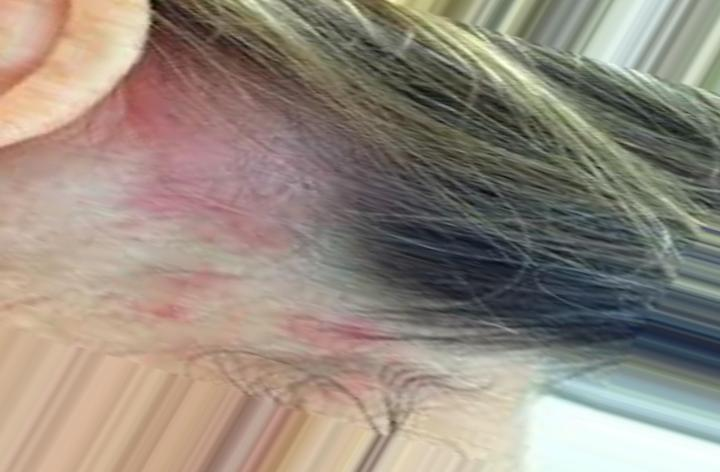Contact Dermatitis: (130, 54, 389, 366)
